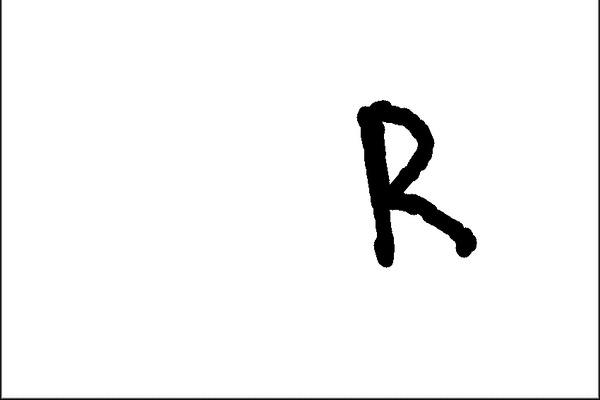R: (352, 90, 484, 269)
